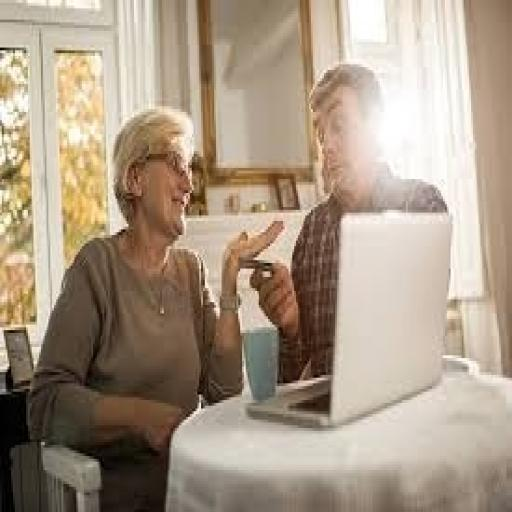using_laptop: (244, 207, 452, 431)
